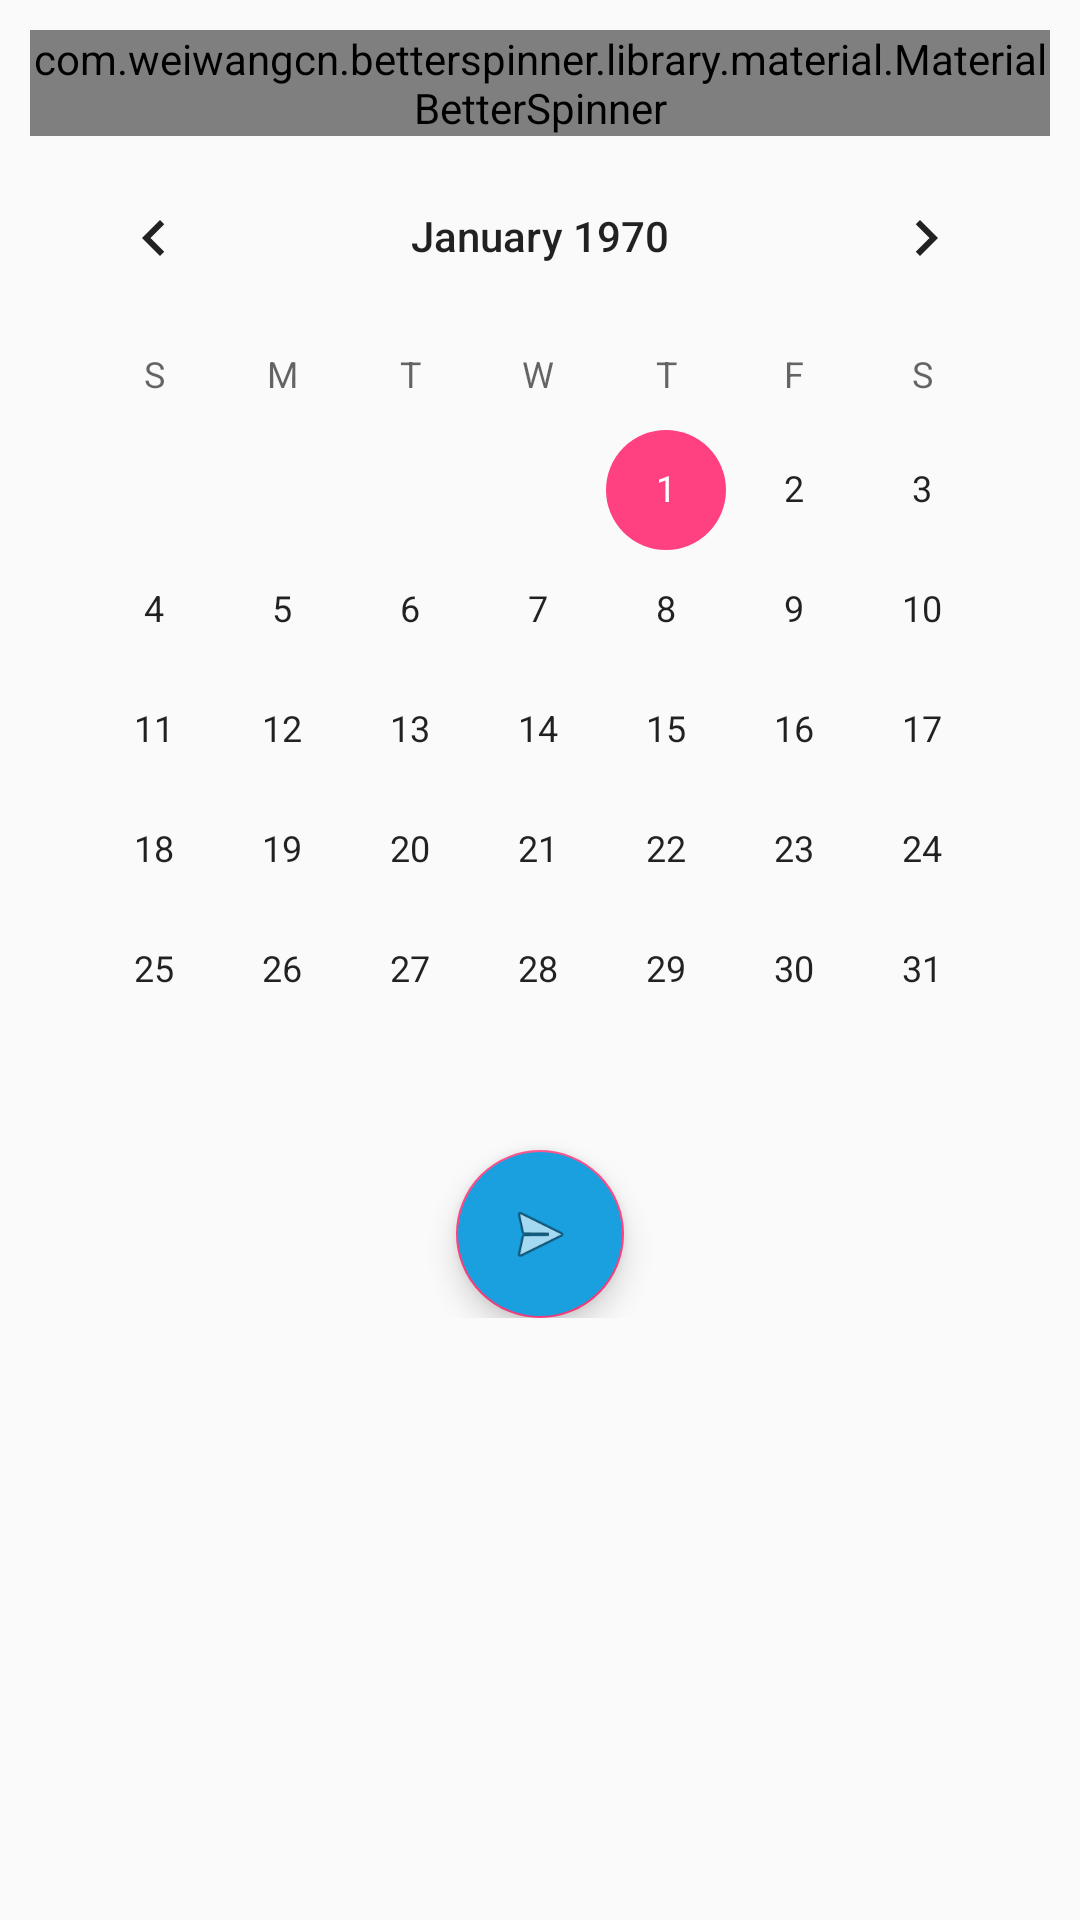

Screen size 1080*1920. Icon name, then its box in pixels as (x1, y1, x2, y2):
send: (456, 1150, 624, 1318)
